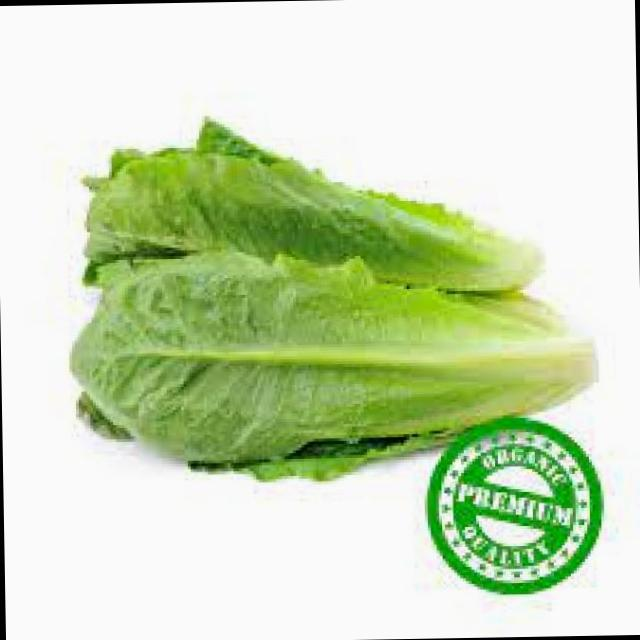Lettuce-Ready-to-Harvest: (72, 252, 590, 461), (85, 118, 538, 288)
